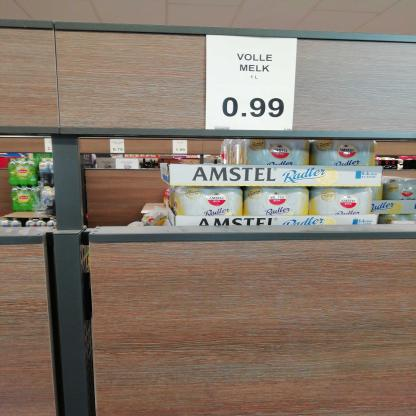prtg: (206, 35, 299, 132), (173, 140, 189, 155), (110, 140, 126, 154), (45, 139, 54, 153)
